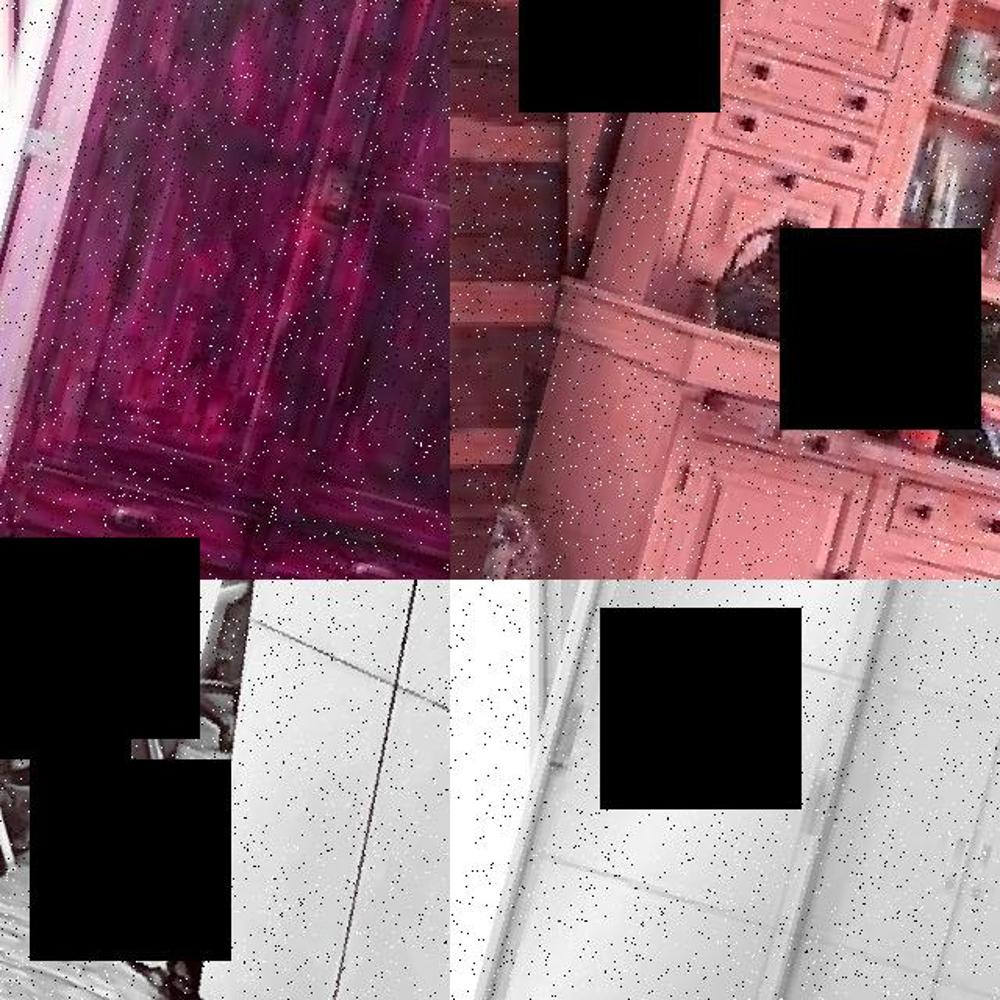cabinet: (513, 0, 1000, 580), (0, 0, 450, 580), (472, 580, 1000, 1000), (198, 580, 450, 1000)
